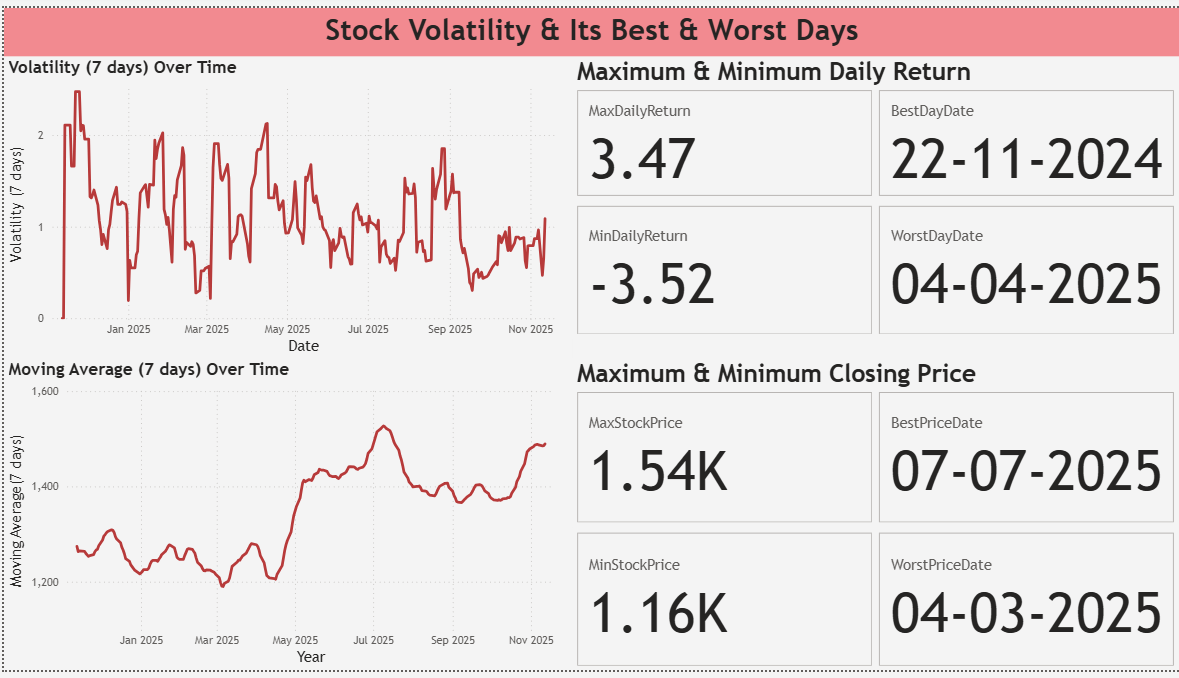

This screenshot's page, from the dashboard's own definition file:
{"tool":"powerbi","page":{"name":"Dashboard_2","canvas":[1280,720],"ordinal":1},"visuals":[{"type":"lineChart","title":"Volatility (7 days) Over Time","fields":{"Y":["Avg(Reliance_Historical_Stock_Analysis.Volatility_7)"],"Category":["Reliance_Historical_Stock_Analysis.stock_date.Variation.Date Hierarchy.Year","Reliance_Historical_Stock_Analysis.stock_date.Variation.Date Hierarchy.Quarter","Reliance_Historical_Stock_Analysis.stock_date.Variation.Date Hierarchy.Month","Reliance_Historical_Stock_Analysis.stock_date.Variation.Date Hierarchy.Day"]},"box":[0,52.9,618.6,328.6],"z":0},{"type":"lineChart","title":"Moving Average (7 days) Over Time","fields":{"Y":["Sum(Reliance_Historical_Stock_Analysis.MA_7)"],"Category":["Reliance_Historical_Stock_Analysis.stock_date.Variation.Date Hierarchy.Year","Reliance_Historical_Stock_Analysis.stock_date.Variation.Date Hierarchy.Quarter","Reliance_Historical_Stock_Analysis.stock_date.Variation.Date Hierarchy.Month","Reliance_Historical_Stock_Analysis.stock_date.Variation.Date Hierarchy.Day"]},"box":[0,381.4,618.6,338.6],"z":1000},{"type":"cardVisual","title":"Maximum & Minimum Daily Return","fields":{"Data":["Reliance_Historical_Stock_Analysis.MaxDailyReturn","Reliance_Historical_Stock_Analysis.BestDayDate"]},"box":[618.6,52.9,661.4,157.1],"z":2000},{"type":"cardVisual","fields":{"Data":["Reliance_Historical_Stock_Analysis.MinDailyReturn","Reliance_Historical_Stock_Analysis.WorstDayDate"]},"box":[618.6,210,661.4,150],"z":3000},{"type":"cardVisual","title":"Maximum & Minimum Closing Price","fields":{"Data":["Reliance_Historical_Stock_Analysis.MaxStockPrice","Reliance_Historical_Stock_Analysis.BestPriceDate"]},"box":[618.3,381.7,661.7,183.3],"z":4000},{"type":"cardVisual","fields":{"Data":["Reliance_Historical_Stock_Analysis.MinStockPrice","Reliance_Historical_Stock_Analysis.WorstPriceDate"]},"box":[618.3,565,661.7,155],"z":5000},{"type":"textbox","box":[0,0,1280,52.9],"z":5001}]}

Visuals, with their boxes in screenshot pixels (x1, y1, x2, y2), scaled from the page's 1280x720 canvas onto the 1179x678 screenshot:
"Volatility (7 days) Over Time" lineChart: x1=0 y1=50 x2=570 y2=359
"Moving Average (7 days) Over Time" lineChart: x1=0 y1=359 x2=570 y2=677
"Maximum & Minimum Daily Return" cardVisual: x1=570 y1=50 x2=1178 y2=198
cardVisual - Reliance_Historical_Stock_Analysis.MinDailyReturn x Reliance_Historical_Stock_Analysis.WorstDayDate: x1=570 y1=198 x2=1178 y2=339
"Maximum & Minimum Closing Price" cardVisual: x1=570 y1=359 x2=1178 y2=532
cardVisual - Reliance_Historical_Stock_Analysis.MinStockPrice x Reliance_Historical_Stock_Analysis.WorstPriceDate: x1=570 y1=532 x2=1178 y2=677
textbox: x1=0 y1=0 x2=1178 y2=50
